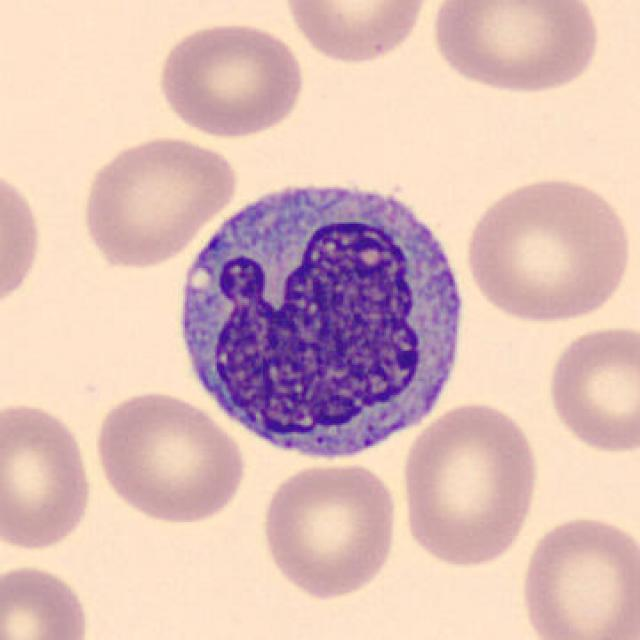Monocyte: (164, 160, 478, 474)
RBC: (459, 171, 633, 326), (396, 398, 544, 570), (76, 130, 242, 272), (89, 386, 249, 527), (256, 457, 402, 601), (153, 16, 309, 141), (426, 0, 604, 97), (516, 511, 638, 640), (0, 396, 98, 554), (542, 321, 638, 457), (279, 0, 434, 67), (0, 560, 94, 640), (0, 159, 46, 319)
